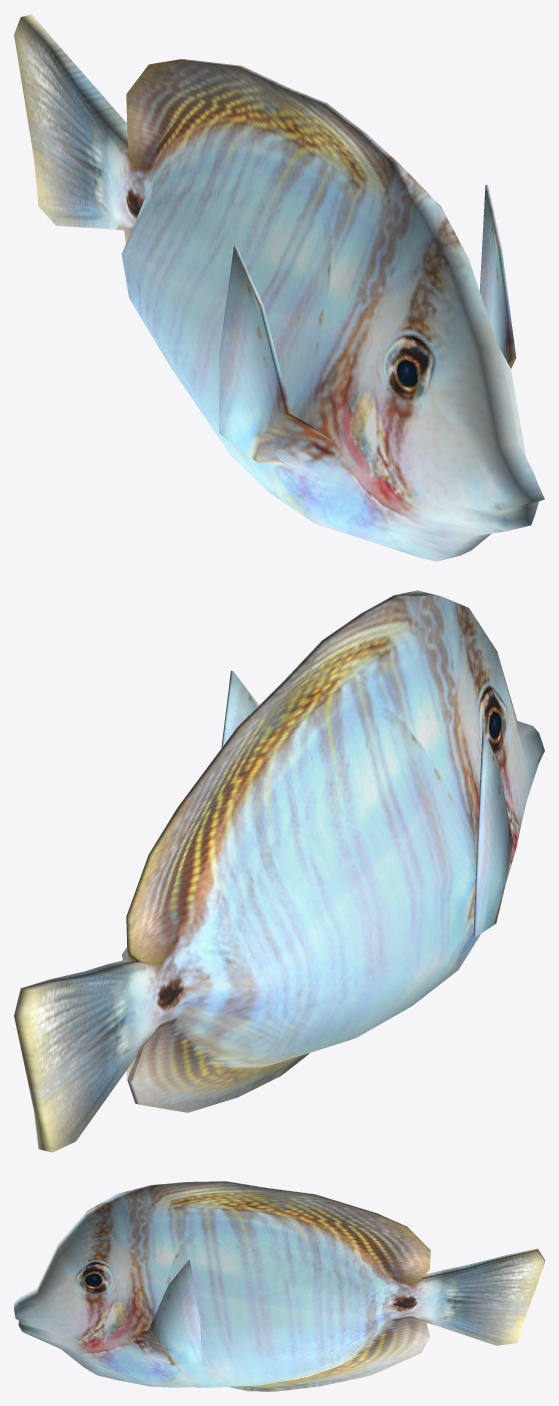
File: fish10.glb
3 renders of one model, top to bottom at view 1: azimuth 30°, elevation 25°; view 2: azimuth 150°, elevation 25°; view 3: azimuth 270°, elevation 25°, orthographic. The views are drawn at different scales.
Parts seen in each view (by area): view 1: Asset3DLoader.sceneRoot; view 2: Asset3DLoader.sceneRoot; view 3: Asset3DLoader.sceneRoot.
Part boxes in pixels (left/top/right/bottom): Asset3DLoader.sceneRoot: left=14, top=14, right=544, bottom=561; Asset3DLoader.sceneRoot: left=14, top=590, right=544, bottom=1152; Asset3DLoader.sceneRoot: left=14, top=1181, right=544, bottom=1391.
Bounding box in the file's own units: 135 × 196 × 450.
Materials: 1 (1 with a texture image).
